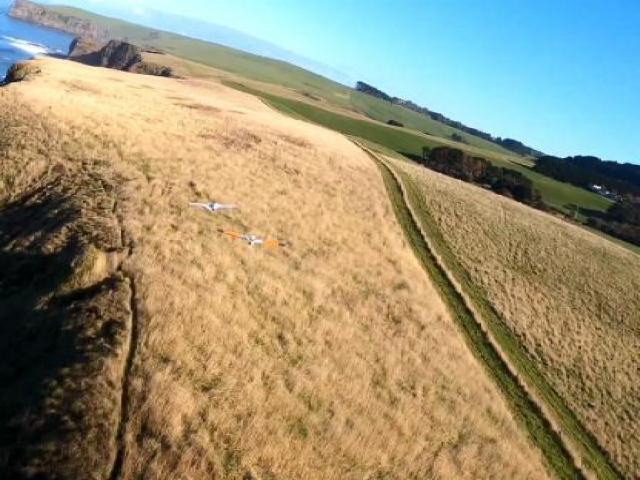uav: (217, 230, 289, 250), (186, 199, 239, 214)
